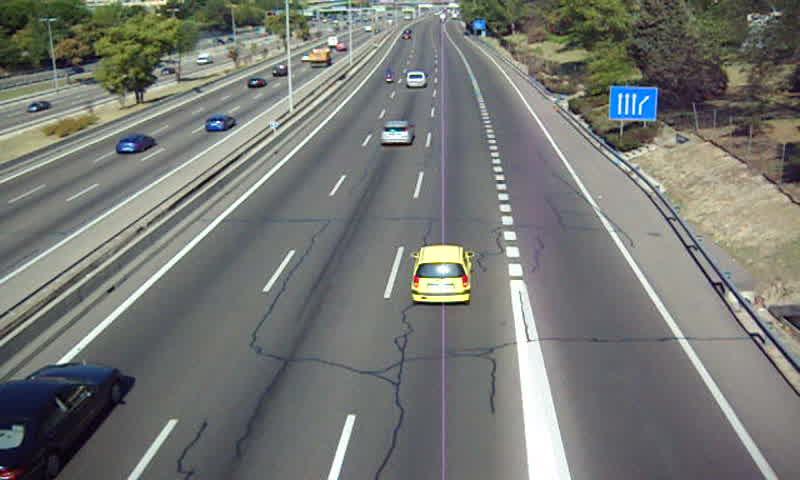car: (1, 363, 123, 480), (408, 246, 474, 306), (380, 121, 415, 148), (405, 72, 424, 89)
motorcycle: (385, 70, 393, 88)
